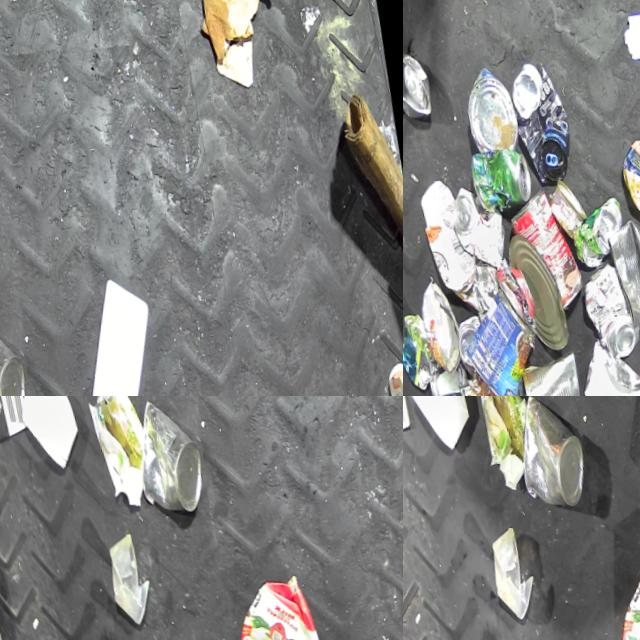can: (499, 396, 605, 522), (504, 178, 597, 314), (457, 275, 559, 396), (503, 50, 586, 184), (126, 396, 217, 515), (505, 223, 582, 353), (449, 175, 519, 272), (579, 251, 640, 358), (459, 58, 527, 153), (418, 272, 476, 375), (471, 138, 543, 213), (570, 188, 636, 267), (603, 205, 640, 327), (520, 341, 597, 396), (0, 300, 41, 396), (547, 170, 598, 238), (403, 40, 440, 123), (457, 308, 497, 375), (462, 365, 545, 396), (617, 124, 640, 217), (430, 355, 481, 396)
milk_jug: (65, 263, 180, 396)
non_white_jug: (215, 555, 338, 640)
plastic_bottle: (0, 610, 38, 640)
